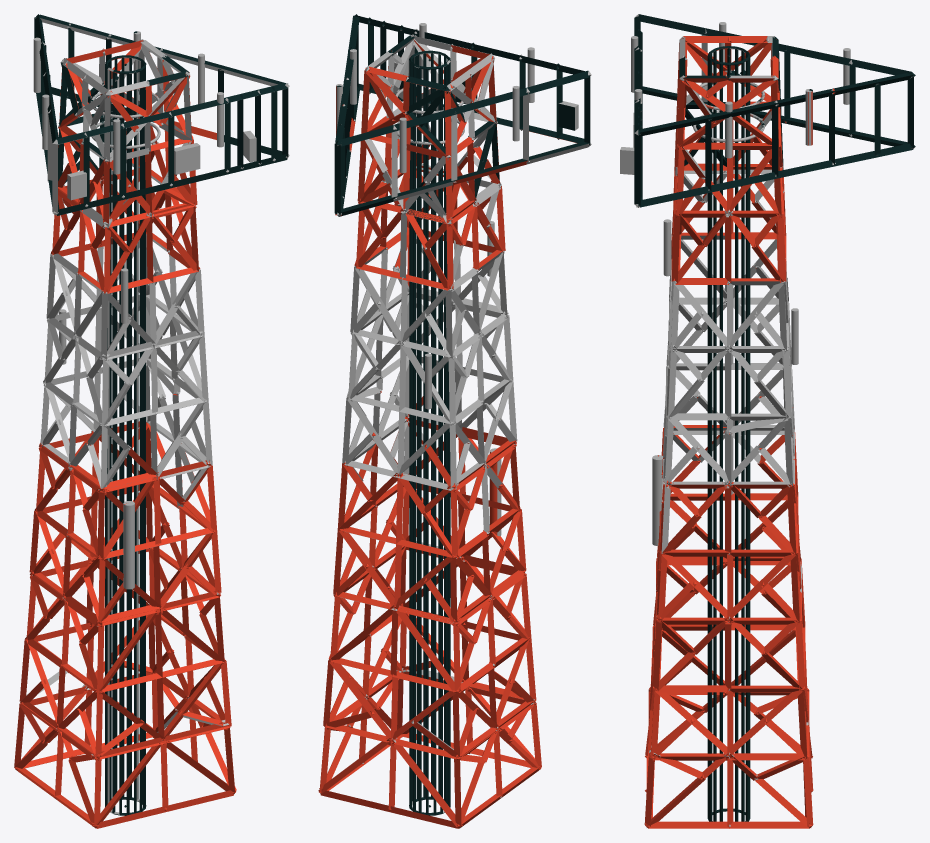
The model's file is antena_simple.glb.
3 views of the same model, side by side, from view 1: azimuth 30°, elevation 25°; view 2: azimuth 150°, elevation 25°; view 3: azimuth 270°, elevation 25° (orthographic). The views are drawn at different scales.
Visible parts, largest first — view 1: Antena_2; view 2: Antena_2; view 3: Antena_2.
Part boxes in pixels (<box>): Antena_2: <box>14,14,289,828</box>; Antena_2: <box>318,14,591,828</box>; Antena_2: <box>620,14,915,828</box>.
Bounding box in the file's own units: 345 × 1036 × 363.
1 material, 1 textured.
